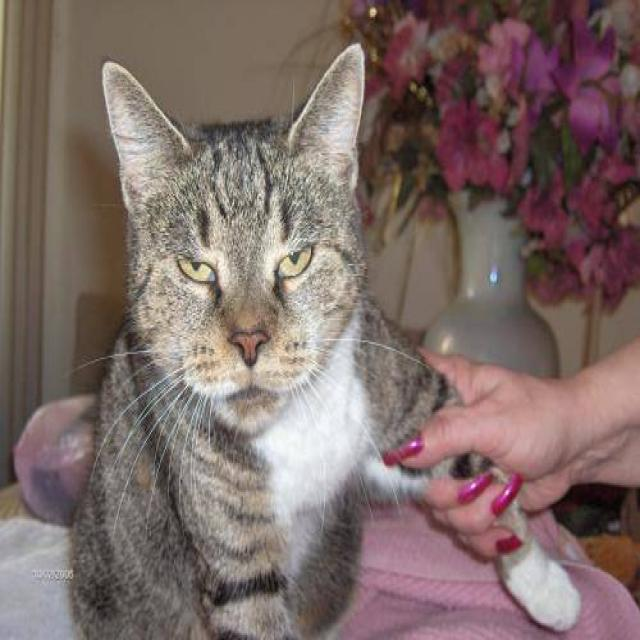cat: (64, 41, 585, 638)
